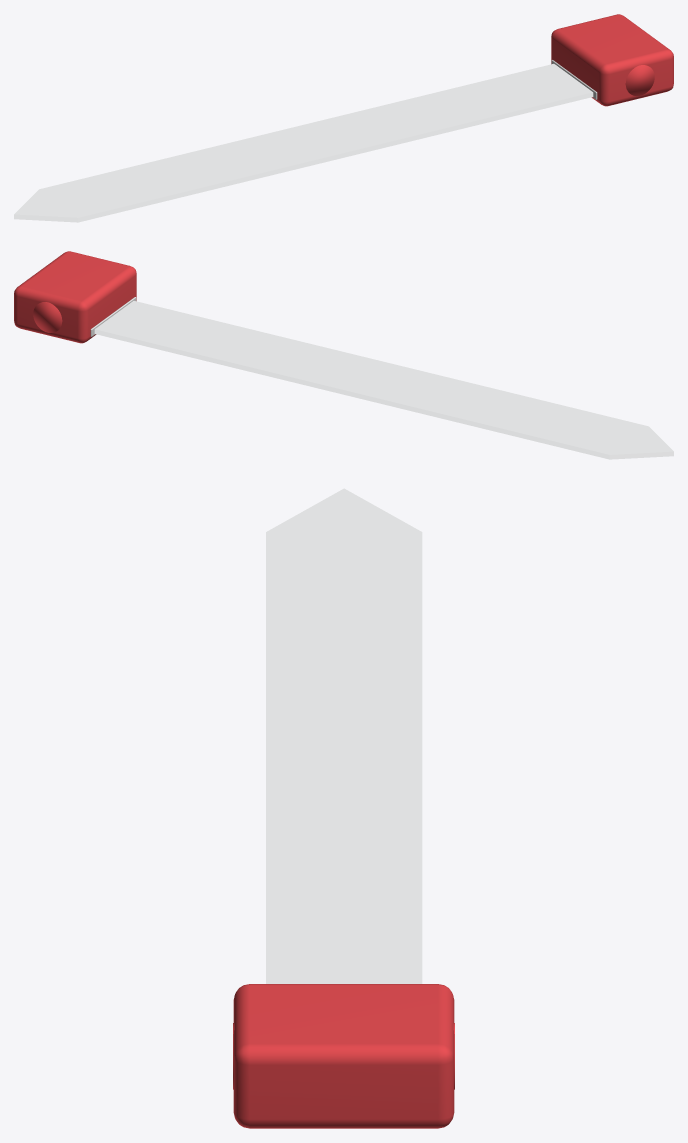
The model's file is ticket-ruler-v2.glb.
3 renders of one model, top to bottom at view 1: azimuth 30°, elevation 25°; view 2: azimuth 150°, elevation 25°; view 3: azimuth 270°, elevation 25°, orthographic. The views are drawn at different scales.
Visible parts, largest first — view 1: V2_Soft_Outline_Shadow_00, V2_Roller_Yellow, V2_Roller_Endcap; view 2: V2_Soft_Outline_Shadow_00, V2_Roller_Yellow, V2_Roller_Endcap.001; view 3: V2_Soft_Outline_Shadow_00, V2_Roller_Yellow.
Boxes of the visible parts, x1,y1,x2,y2 form: V2_Soft_Outline_Shadow_00: (14,63,593,222); V2_Roller_Yellow: (551,14,673,106); V2_Roller_Endcap: (625,65,654,95); V2_Soft_Outline_Shadow_00: (94,301,673,459); V2_Roller_Yellow: (14,251,136,343); V2_Roller_Endcap.001: (33,302,62,332); V2_Soft_Outline_Shadow_00: (266,488,422,983); V2_Roller_Yellow: (233,984,454,1128).
Bounding box in the file's own units: 6.38 × 0.4 × 0.966.
